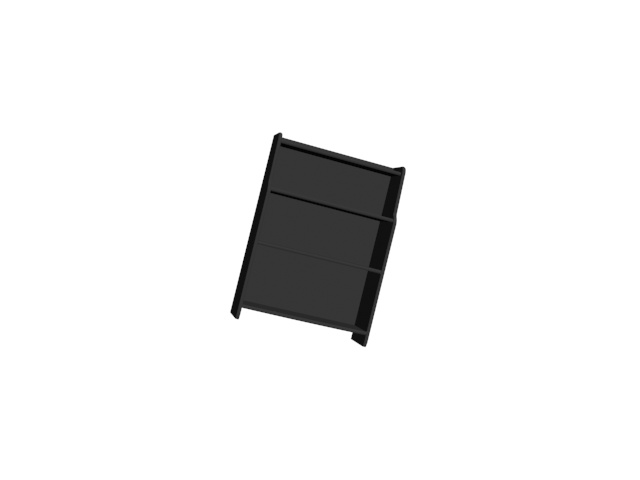bookcase: (225, 129, 408, 352)
